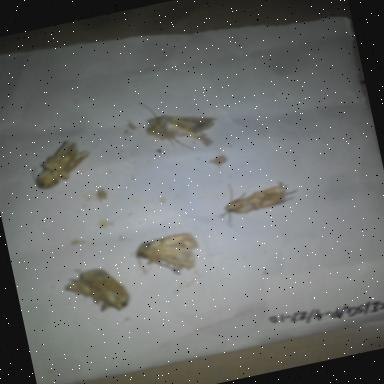abw: (132, 82, 230, 164), (205, 166, 310, 234), (127, 222, 212, 292), (18, 130, 101, 198), (58, 256, 136, 324)
